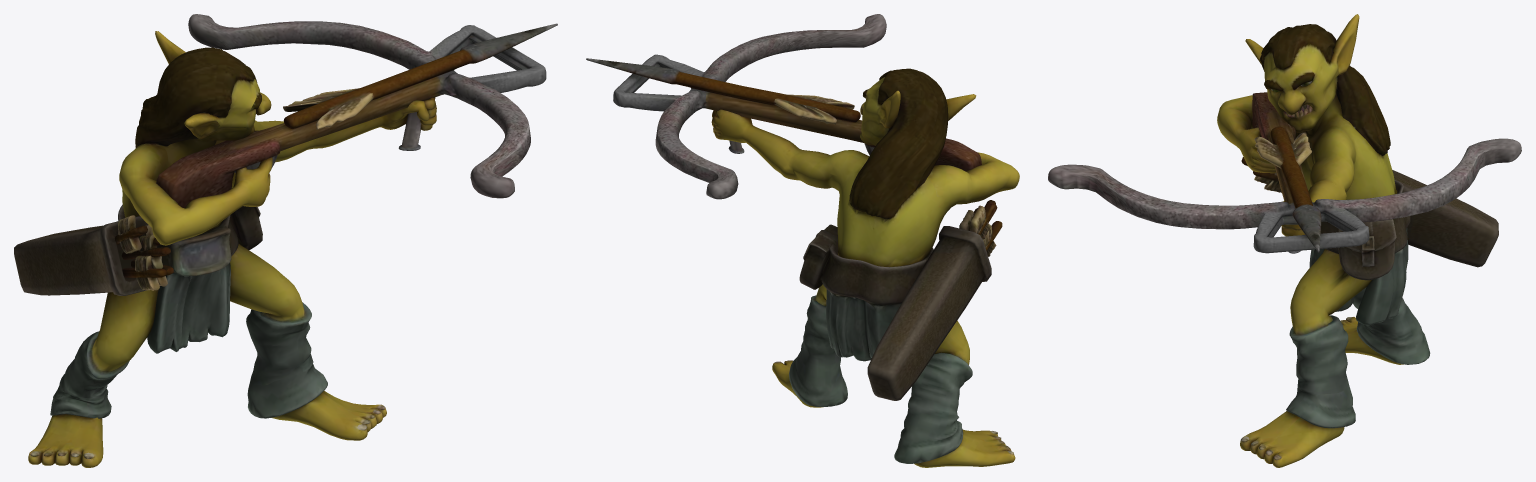
File: MZ4250 - Goblin with Crossbow.glb
The picture shows the model from 3 angles, left to right: view 1: azimuth 30°, elevation 25°; view 2: azimuth 150°, elevation 25°; view 3: azimuth 270°, elevation 25°; orthographic projection. The views are drawn at different scales.
Parts seen in each view (by area): view 1: Goblin ranged Updated with Crossbow.001; view 2: Goblin ranged Updated with Crossbow.001; view 3: Goblin ranged Updated with Crossbow.001.
Part boxes in pixels (x1=…): Goblin ranged Updated with Crossbow.001: x1=14, y1=14, x2=557, y2=467; Goblin ranged Updated with Crossbow.001: x1=586, y1=14, x2=1019, y2=467; Goblin ranged Updated with Crossbow.001: x1=1048, y1=14, x2=1521, y2=467.
Bounding box in the file's own units: 31.93 × 23.96 × 27.63.
Materials: 1 (1 with a texture image).
